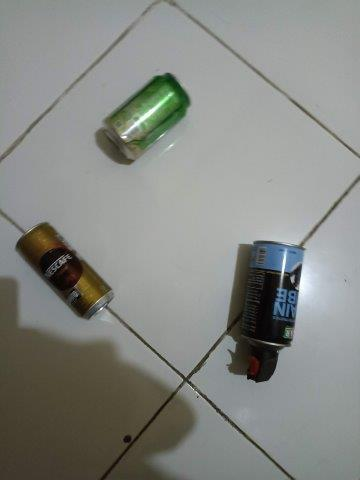kaleng: (17, 222, 115, 320), (102, 72, 192, 161), (240, 240, 306, 347)
